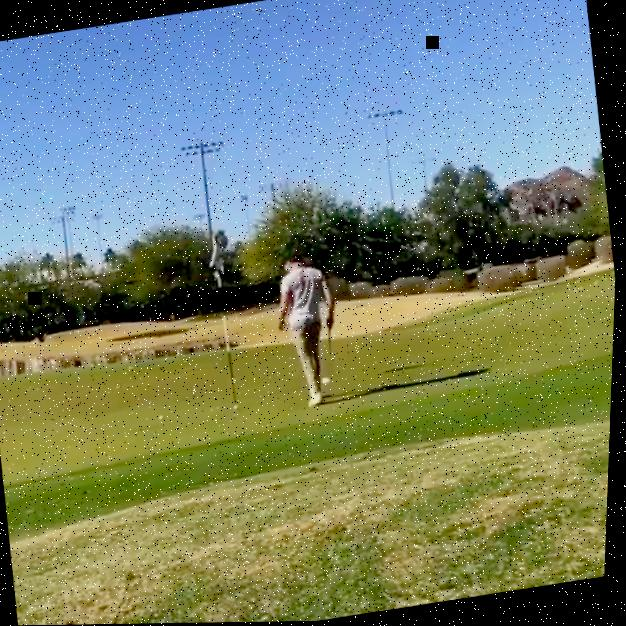ClubHead: (322, 377, 333, 386)
GolfBall: (235, 404, 242, 410), (161, 415, 166, 421)
